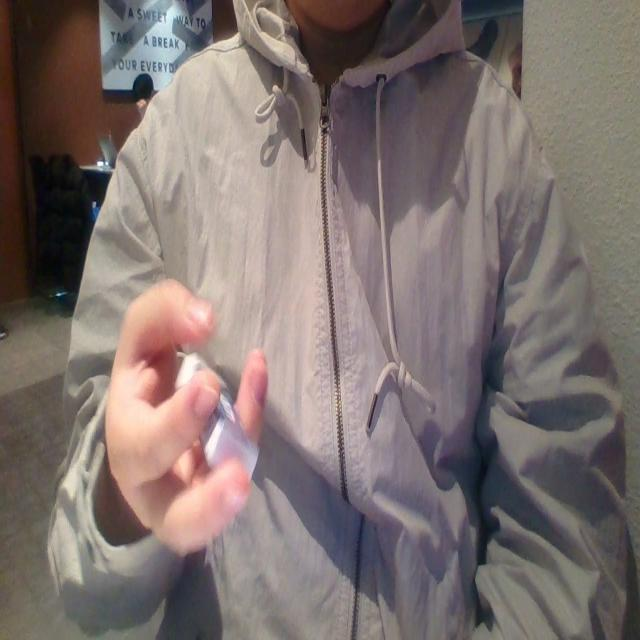grab_eraser: (111, 270, 258, 584)
